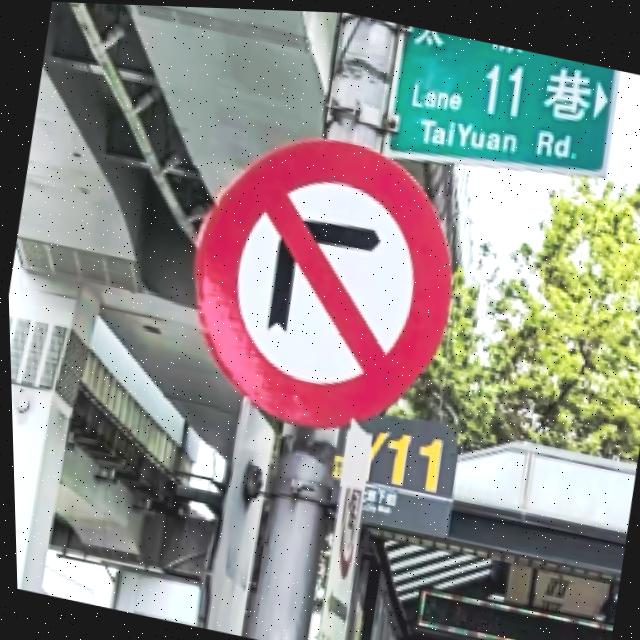noturnright: (191, 136, 452, 429)
